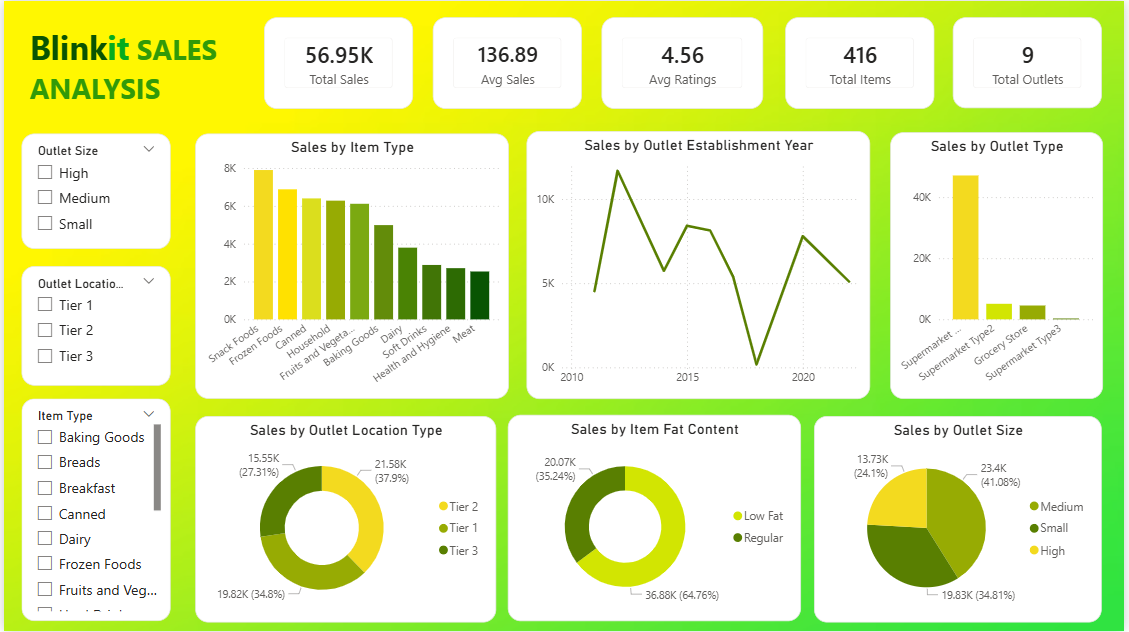

This screenshot's page, from the dashboard's own definition file:
{"tool":"powerbi","page":{"name":"Page 1","canvas":[1280,720],"ordinal":0},"visuals":[{"type":"cardVisual","fields":{"Data":["BlinkIT Grocery Data.Average Sales"]},"box":[490,18.9,170,104.4],"z":0},{"type":"cardVisual","fields":{"Data":["BlinkIT Grocery Data.Average Ratings"]},"box":[683.1,18.5,184.6,104.6],"z":1000},{"type":"cardVisual","fields":{"Data":["BlinkIT Grocery Data.Total Items"]},"box":[892.3,18.5,170,104.6],"z":2000},{"type":"cardVisual","fields":{"Data":["BlinkIT Grocery Data.Total Sales"]},"box":[297.8,18.9,170,104.4],"z":3000},{"type":"cardVisual","fields":{"Data":["BlinkIT Grocery Data.Total Outlets"]},"box":[1084.3,18.6,170,104.3],"z":4000},{"type":"columnChart","title":"Sales by Item Type","fields":{"Category":["BlinkIT Grocery Data.Item Type"],"Y":["Sum(BlinkIT Grocery Data.Sales)"]},"box":[218.2,150.9,358.1,303.3],"z":5000},{"type":"donutChart","title":"Sales by Outlet Location Type","fields":{"Y":["Sum(BlinkIT Grocery Data.Sales)"],"Category":["BlinkIT Grocery Data.Outlet Location Type"]},"box":[218.8,473.8,343.8,236.2],"z":6000},{"type":"pieChart","title":"Sales by Outlet Size","fields":{"Category":["BlinkIT Grocery Data.Outlet Size"],"Y":["Sum(BlinkIT Grocery Data.Sales)"]},"box":[926.2,473.8,328.8,236.2],"z":7000},{"type":"columnChart","title":"Sales by Outlet Type","fields":{"Category":["BlinkIT Grocery Data.Outlet Type"],"Y":["Sum(BlinkIT Grocery Data.Sales)"]},"box":[1012.7,149.6,242.9,304.6],"z":8000},{"type":"lineChart","title":"Sales by Outlet Establishment Year","fields":{"Y":["Sum(BlinkIT Grocery Data.Sales)"],"Category":["BlinkIT Grocery Data.Outlet Establishment Year"]},"box":[596.9,148.2,392.5,306],"z":9000},{"type":"donutChart","title":"Sales by Item Fat Content","fields":{"Y":["Sum(BlinkIT Grocery Data.Sales)"],"Category":["BlinkIT Grocery Data.Item Fat Content"]},"box":[576.3,473.4,334.8,236],"z":10000},{"type":"textbox","box":[24.3,22.9,244.3,111.4],"z":11000},{"type":"slicer","fields":{"Values":["BlinkIT Grocery Data.Outlet Size"]},"box":[20.6,150.9,170.2,131.7],"z":11001},{"type":"slicer","fields":{"Values":["BlinkIT Grocery Data.Outlet Location Type"]},"box":[20,302.9,170,137.1],"z":11002},{"type":"slicer","fields":{"Values":["BlinkIT Grocery Data.Item Type"]},"box":[20,454.3,170,254.3],"z":11003}]}

Visuals, with their boxes in screenshot pixels (x1, y1, x2, y2), scaled from the page's 1280x720 canvas onto the 1129x632 screenshot:
cardVisual - BlinkIT Grocery Data.Average Sales: (x1=432, y1=17, x2=582, y2=108)
cardVisual - BlinkIT Grocery Data.Average Ratings: (x1=603, y1=16, x2=765, y2=108)
cardVisual - BlinkIT Grocery Data.Total Items: (x1=787, y1=16, x2=937, y2=108)
cardVisual - BlinkIT Grocery Data.Total Sales: (x1=263, y1=17, x2=413, y2=108)
cardVisual - BlinkIT Grocery Data.Total Outlets: (x1=956, y1=16, x2=1106, y2=108)
"Sales by Item Type" columnChart: (x1=192, y1=132, x2=508, y2=399)
"Sales by Outlet Location Type" donutChart: (x1=193, y1=416, x2=496, y2=623)
"Sales by Outlet Size" pieChart: (x1=817, y1=416, x2=1107, y2=623)
"Sales by Outlet Type" columnChart: (x1=893, y1=131, x2=1107, y2=399)
"Sales by Outlet Establishment Year" lineChart: (x1=526, y1=130, x2=873, y2=399)
"Sales by Item Fat Content" donutChart: (x1=508, y1=416, x2=804, y2=623)
textbox: (x1=21, y1=20, x2=237, y2=118)
slicer - BlinkIT Grocery Data.Outlet Size: (x1=18, y1=132, x2=168, y2=248)
slicer - BlinkIT Grocery Data.Outlet Location Type: (x1=18, y1=266, x2=168, y2=386)
slicer - BlinkIT Grocery Data.Item Type: (x1=18, y1=399, x2=168, y2=622)
